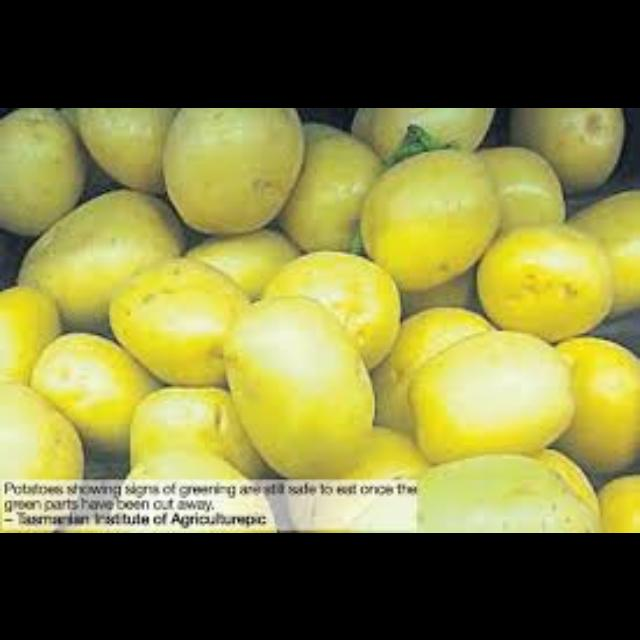Defected potato: (220, 294, 382, 483), (14, 180, 192, 336), (105, 251, 279, 387), (407, 328, 576, 468), (355, 146, 503, 294), (248, 245, 402, 373), (160, 107, 308, 235), (369, 306, 505, 444), (473, 222, 619, 344), (406, 451, 602, 533), (280, 118, 390, 258), (34, 331, 160, 453), (129, 391, 271, 485), (0, 107, 86, 235), (506, 107, 630, 191), (562, 336, 640, 468), (2, 382, 86, 482), (4, 283, 64, 385)
